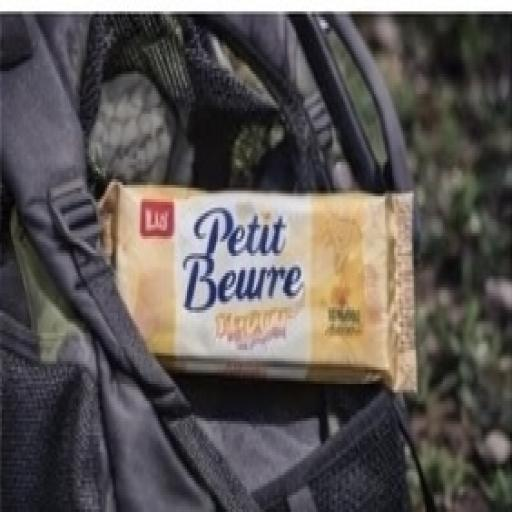petit_beurre: (66, 133, 444, 439)
